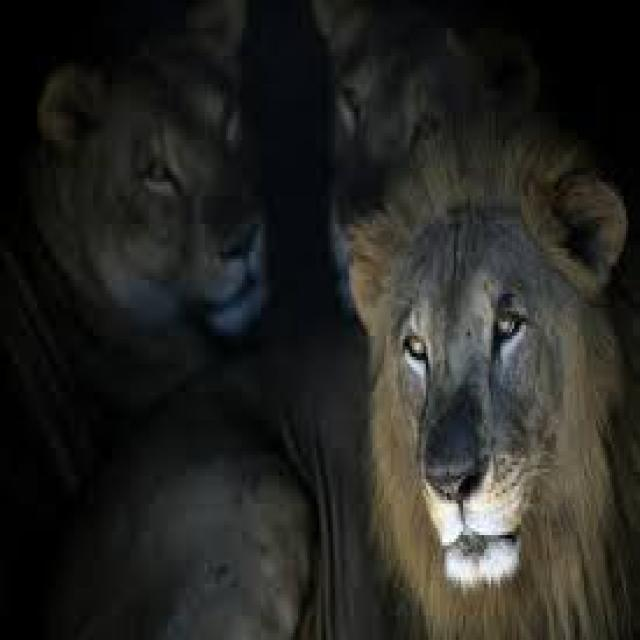Lion: (340, 133, 630, 637)
